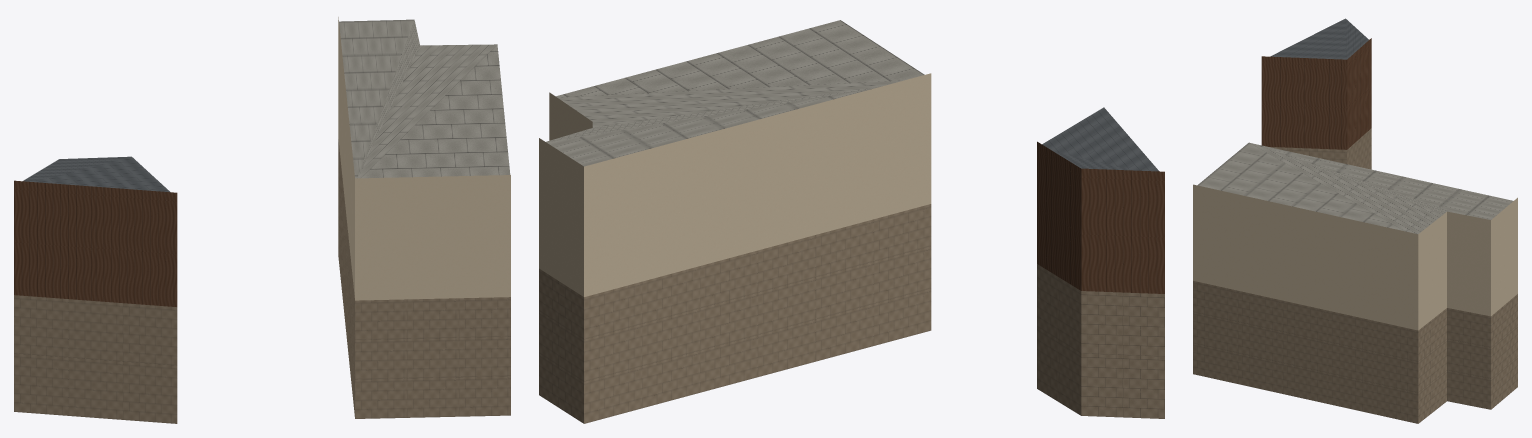
Rendered from bld_c22_45_394.gltf.
3 renders of one model, left to right at view 1: azimuth 30°, elevation 25°; view 2: azimuth 150°, elevation 25°; view 3: azimuth 270°, elevation 25°, orthographic. The views are drawn at different scales.
Visible parts, largest first — view 1: bld_c22_45_394; view 2: bld_c22_45_394; view 3: bld_c22_45_394.
Part boxes in pixels (left/top/right/bottom): bld_c22_45_394: left=14, top=17, right=510, bottom=423; bld_c22_45_394: left=539, top=20, right=1164, bottom=423; bld_c22_45_394: left=1193, top=18, right=1517, bottom=423.
Bounding box in the file's own units: 23.68 × 11.18 × 15.96.
Materials: 7 (7 with a texture image).
